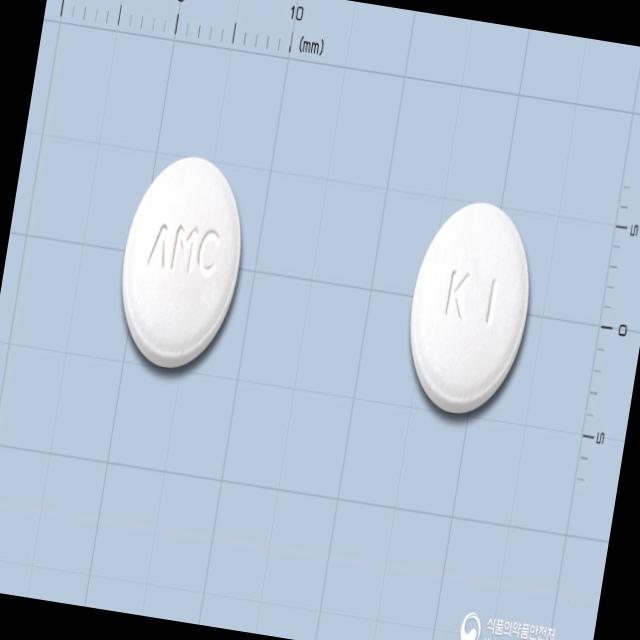Amocla 375mg: (394, 194, 544, 424), (107, 148, 256, 378)
